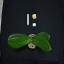leaf: (32, 32, 52, 51), (7, 34, 31, 49)
